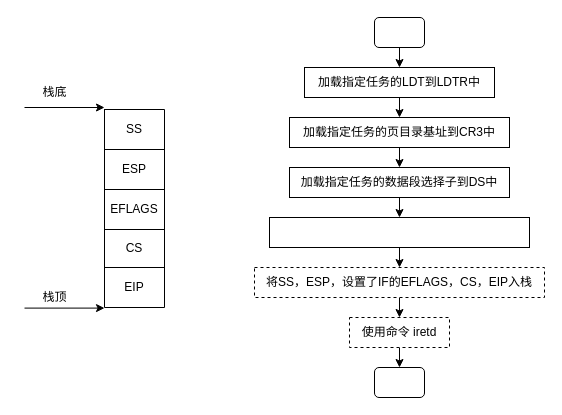
Some shapes in this 562 by 415 pixel diagram are drawn without their labels. Each missing label, with the box of its shape:
使用 iretd 进行任务切换, 切换至指定任务: (268, 216, 530, 248)
开始: (374, 16, 424, 48)
结束: (374, 366, 424, 398)
